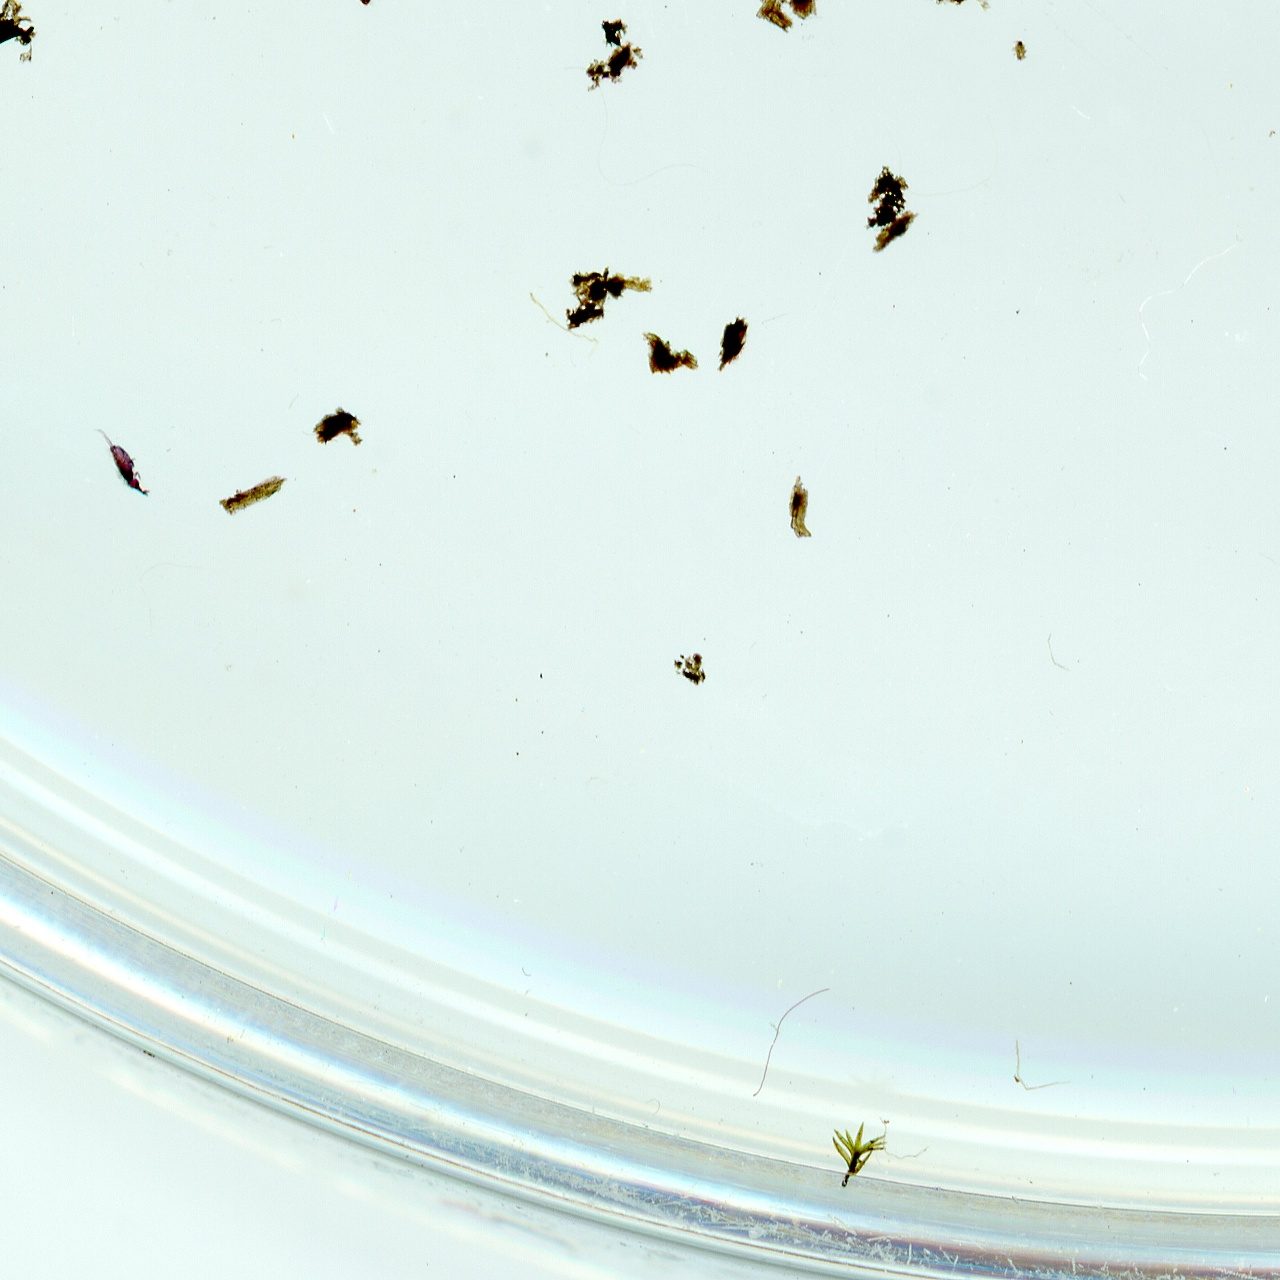arthropod: (88, 410, 161, 511), (343, 0, 380, 14)
